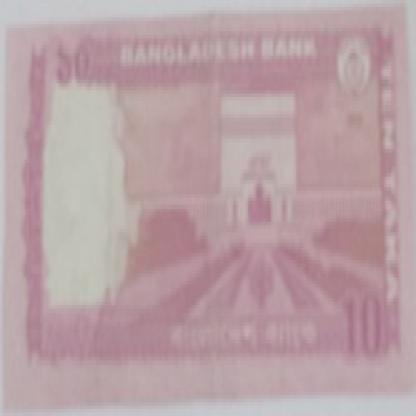Ten Taka: (38, 24, 113, 94), (344, 277, 390, 364)
